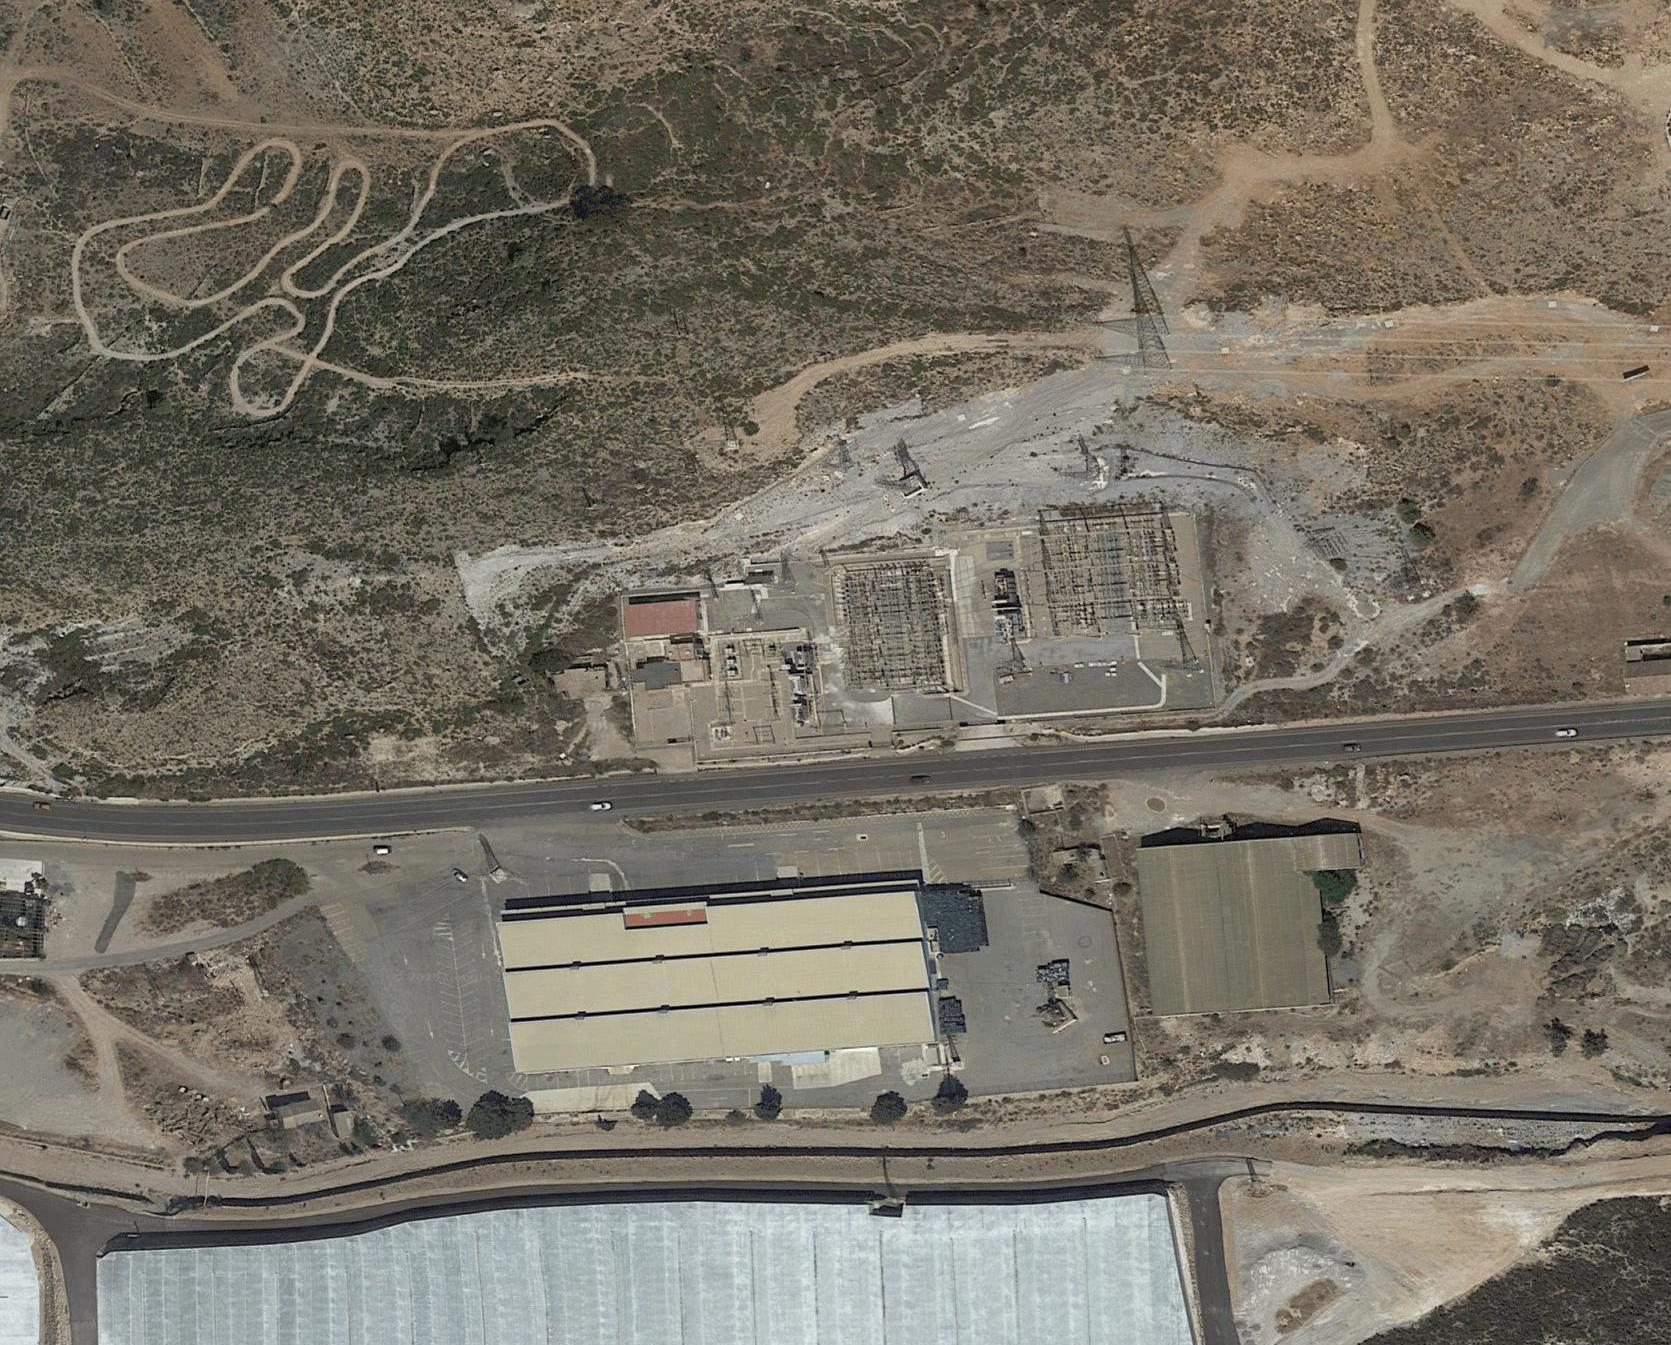substation: (705, 549, 962, 751), (982, 486, 1199, 685)
